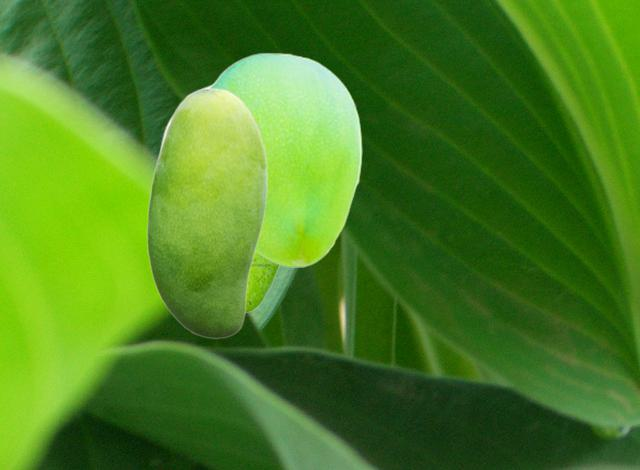green_mango: (207, 52, 361, 266), (146, 87, 267, 338), (247, 254, 279, 312)
